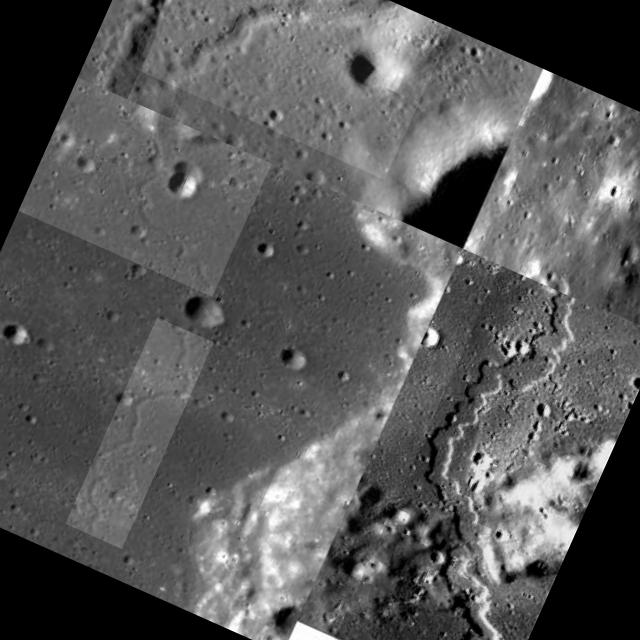rille: (323, 266, 640, 640), (135, 0, 452, 180), (18, 78, 272, 298), (64, 318, 214, 550), (601, 130, 640, 335)
